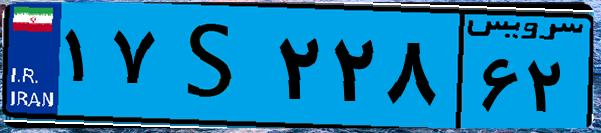1: (57, 26, 110, 100)
2: (270, 28, 330, 110), (330, 28, 385, 110), (525, 38, 570, 115)
6: (475, 38, 525, 113)
7: (110, 28, 158, 98)
8: (385, 28, 445, 110)
S: (158, 12, 270, 120)
